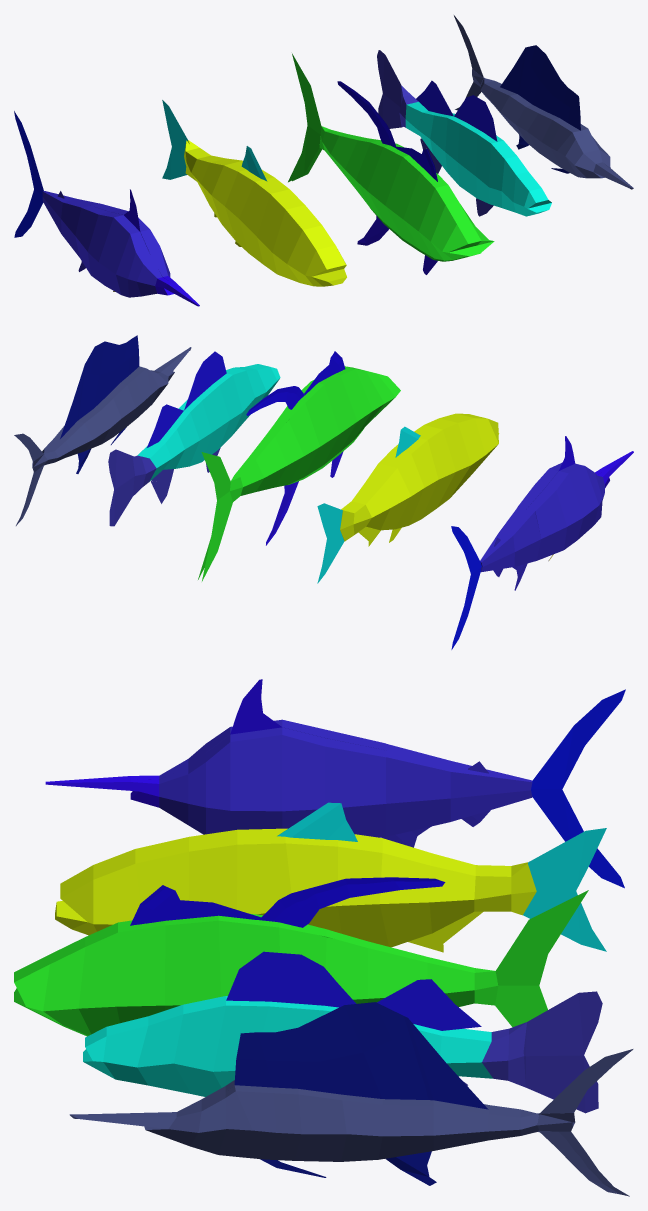
The model's file is Fish_Models.fbx.
3 renders of one model, top to bottom at view 1: azimuth 30°, elevation 25°; view 2: azimuth 150°, elevation 25°; view 3: azimuth 270°, elevation 25°, orthographic. The views are drawn at different scales.
Visible parts, largest first — view 1: Fish 5, Fish 8, Fish 4, Fish_1, Sword_fish; view 2: Fish 5, Fish 8, Fish 4, Fish_1, Sword_fish; view 3: Sword_fish, Fish 5, Fish 8, Fish_1, Fish 4.
Part boxes in pixels (x1=…): Fish 5: x1=288, y1=53, x2=494, y2=274; Fish 8: x1=162, y1=100, x2=346, y2=286; Fish 4: x1=377, y1=50, x2=551, y2=216; Fish_1: x1=14, y1=111, x2=199, y2=306; Sword_fish: x1=454, y1=15, x2=633, y2=189; Fish 5: x1=198, y1=351, x2=400, y2=581; Fish 8: x1=317, y1=413, x2=499, y2=583; Fish 4: x1=108, y1=351, x2=280, y2=526; Fish_1: x1=451, y1=436, x2=633, y2=649; Sword_fish: x1=14, y1=335, x2=191, y2=525; Sword_fish: x1=69, y1=1002, x2=633, y2=1196; Fish 5: x1=14, y1=877, x2=588, y2=1036; Fish 8: x1=55, y1=802, x2=606, y2=952; Fish_1: x1=45, y1=679, x2=625, y2=888; Fish 4: x1=83, y1=951, x2=602, y2=1113.
Bounding box in the file's own units: 94.22 × 29.31 × 66.52.
